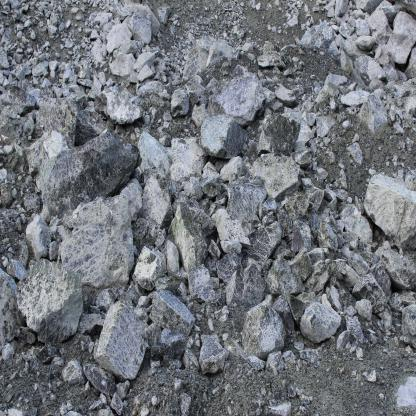stone: (36, 128, 138, 217), (60, 196, 134, 289), (16, 258, 83, 343), (96, 301, 147, 380), (364, 174, 416, 250), (209, 73, 266, 127), (239, 304, 287, 358), (169, 205, 208, 269), (248, 153, 301, 200), (199, 113, 250, 160), (150, 288, 195, 337), (26, 130, 69, 175), (299, 301, 342, 345), (381, 11, 416, 63), (226, 179, 266, 224), (376, 246, 416, 289), (142, 171, 172, 228), (258, 114, 300, 154), (94, 89, 143, 123), (169, 137, 205, 182), (265, 257, 305, 296), (244, 222, 281, 264), (352, 272, 387, 313), (132, 245, 162, 292), (138, 132, 171, 173), (342, 203, 373, 245), (216, 209, 250, 247), (25, 214, 51, 260), (358, 92, 387, 132), (242, 258, 267, 304), (183, 39, 211, 79), (83, 363, 116, 396), (299, 20, 334, 51), (153, 328, 187, 359), (200, 335, 227, 374), (1, 85, 36, 114), (365, 10, 392, 47), (121, 178, 142, 220), (288, 246, 313, 281), (187, 264, 211, 300), (354, 55, 386, 81), (216, 254, 243, 283), (106, 23, 132, 53), (369, 260, 391, 295), (285, 292, 307, 327), (273, 294, 294, 330), (206, 39, 232, 68), (292, 218, 314, 251), (400, 303, 416, 348), (130, 12, 152, 44), (225, 269, 244, 306), (285, 191, 310, 219), (109, 52, 136, 77), (79, 312, 105, 336), (219, 156, 242, 183), (62, 358, 85, 385), (318, 220, 338, 250), (346, 315, 366, 344), (171, 87, 189, 119), (347, 251, 369, 276), (166, 240, 180, 277), (183, 176, 203, 201), (191, 103, 210, 129), (305, 186, 324, 212), (257, 52, 286, 69), (340, 91, 370, 107), (316, 114, 335, 139), (275, 84, 297, 105), (199, 177, 221, 198), (133, 52, 155, 73), (96, 289, 117, 311), (6, 257, 26, 280), (184, 75, 205, 96), (34, 343, 56, 363), (265, 352, 284, 374), (347, 142, 363, 167), (258, 197, 277, 218), (289, 149, 312, 166), (277, 212, 292, 238), (328, 285, 342, 312), (355, 299, 372, 321), (16, 327, 36, 345), (335, 329, 351, 351), (195, 285, 215, 302), (113, 3, 133, 20), (355, 35, 376, 51), (24, 193, 40, 213), (246, 354, 266, 370), (115, 380, 130, 401), (389, 292, 404, 313), (220, 240, 242, 254), (339, 20, 356, 38), (208, 239, 221, 262), (178, 393, 191, 416), (32, 59, 49, 76), (137, 64, 153, 82), (110, 393, 123, 415), (273, 246, 294, 259), (400, 289, 416, 306), (355, 18, 370, 36), (40, 78, 53, 98), (299, 349, 319, 362), (384, 64, 399, 81), (1, 343, 15, 361), (127, 283, 139, 304), (176, 282, 187, 304), (134, 305, 149, 321), (232, 64, 249, 78), (360, 251, 378, 264), (77, 64, 92, 79), (23, 117, 34, 136), (0, 46, 9, 69), (405, 173, 416, 191), (382, 311, 392, 330), (49, 241, 59, 260), (329, 94, 340, 111), (334, 188, 348, 201), (61, 83, 74, 97), (339, 170, 348, 190), (334, 259, 346, 274), (188, 91, 200, 106), (305, 112, 316, 128), (207, 260, 217, 277), (301, 99, 314, 112), (87, 85, 99, 99), (290, 85, 304, 97), (316, 165, 328, 179), (89, 400, 104, 411), (355, 196, 364, 214), (63, 66, 72, 83), (16, 65, 25, 82), (93, 74, 101, 93), (77, 78, 93, 87), (365, 370, 377, 382), (324, 188, 336, 200), (301, 177, 313, 189), (364, 333, 377, 344), (262, 212, 273, 225), (282, 350, 296, 360), (343, 306, 357, 316), (286, 16, 298, 27), (138, 296, 149, 308), (272, 101, 284, 112), (159, 135, 171, 146), (393, 122, 403, 135), (342, 120, 353, 131), (47, 24, 58, 35), (14, 217, 22, 232), (352, 9, 364, 19), (50, 11, 58, 26), (328, 198, 337, 211), (0, 168, 8, 182), (347, 16, 357, 27), (13, 53, 24, 63), (9, 209, 19, 220), (294, 339, 304, 350), (2, 145, 13, 155), (242, 40, 251, 52), (140, 404, 149, 416), (156, 235, 165, 247), (53, 86, 62, 98), (288, 385, 296, 398), (406, 137, 414, 150), (98, 72, 106, 85), (227, 175, 236, 186), (90, 29, 99, 40), (15, 145, 24, 156), (49, 60, 58, 71), (349, 342, 358, 353), (208, 318, 215, 332), (60, 402, 67, 416), (328, 275, 336, 287), (130, 72, 138, 84), (356, 347, 364, 359), (9, 107, 17, 119), (23, 65, 32, 75), (150, 360, 160, 369), (283, 68, 294, 76), (350, 239, 358, 250), (37, 52, 46, 61), (163, 112, 172, 121), (99, 17, 108, 26), (13, 9, 21, 19), (352, 133, 360, 143), (327, 7, 335, 17), (252, 214, 260, 224), (101, 44, 107, 57), (66, 400, 73, 411), (22, 79, 29, 90), (100, 393, 107, 404), (151, 395, 158, 406), (220, 314, 229, 322), (24, 19, 32, 28), (64, 41, 73, 49), (136, 40, 143, 50), (3, 78, 10, 88), (172, 79, 182, 86), (85, 381, 90, 395), (58, 22, 65, 32), (21, 36, 27, 47), (392, 155, 398, 166), (286, 55, 292, 66), (162, 121, 170, 129), (68, 74, 76, 82), (106, 78, 113, 87), (17, 31, 23, 41), (144, 115, 150, 125), (323, 137, 331, 144), (332, 24, 339, 32), (248, 53, 255, 61), (397, 169, 405, 176), (181, 77, 189, 84), (30, 31, 36, 40), (12, 188, 17, 198), (0, 244, 5, 254), (188, 32, 193, 42), (314, 361, 321, 368), (237, 32, 244, 39), (160, 75, 167, 82), (91, 67, 97, 75), (368, 169, 376, 175), (48, 3, 54, 11), (50, 70, 56, 78), (256, 2, 261, 11), (0, 27, 5, 36), (233, 25, 238, 34), (74, 66, 80, 73), (347, 197, 353, 204), (85, 50, 91, 57), (321, 109, 328, 115), (35, 51, 42, 57), (27, 47, 33, 54), (15, 48, 23, 53), (39, 5, 44, 13), (346, 342, 351, 350), (45, 53, 50, 61), (181, 49, 187, 55), (84, 46, 90, 52), (17, 25, 23, 31), (29, 58, 35, 64), (301, 23, 306, 30), (153, 74, 160, 79), (376, 320, 381, 327), (39, 21, 44, 27), (55, 52, 60, 58), (45, 41, 50, 47), (272, 27, 277, 32), (77, 54, 82, 59), (240, 2, 245, 7), (386, 160, 390, 166), (306, 20, 310, 26), (92, 2, 96, 8), (78, 26, 82, 32), (310, 75, 315, 79), (45, 13, 49, 18), (236, 30, 240, 35), (278, 29, 282, 34), (20, 43, 24, 48), (268, 24, 271, 30), (72, 38, 76, 42), (74, 45, 77, 50), (102, 6, 105, 10), (90, 1, 92, 6), (99, 6, 102, 9)
